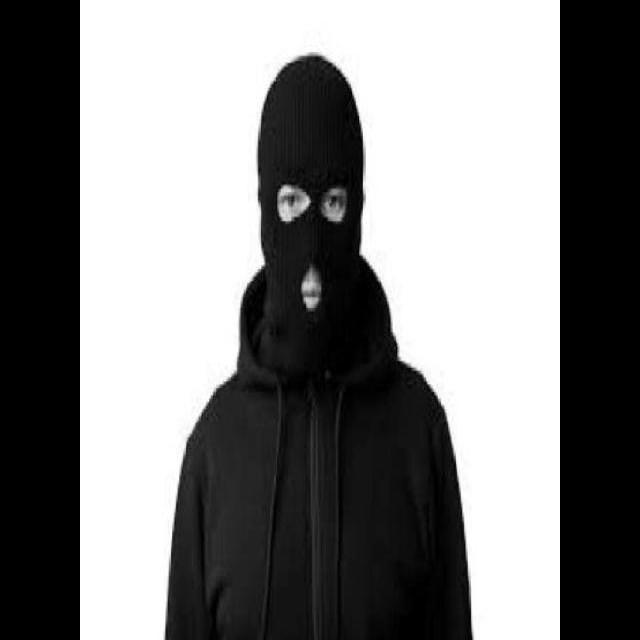6_pasamontana: (256, 52, 364, 364)
